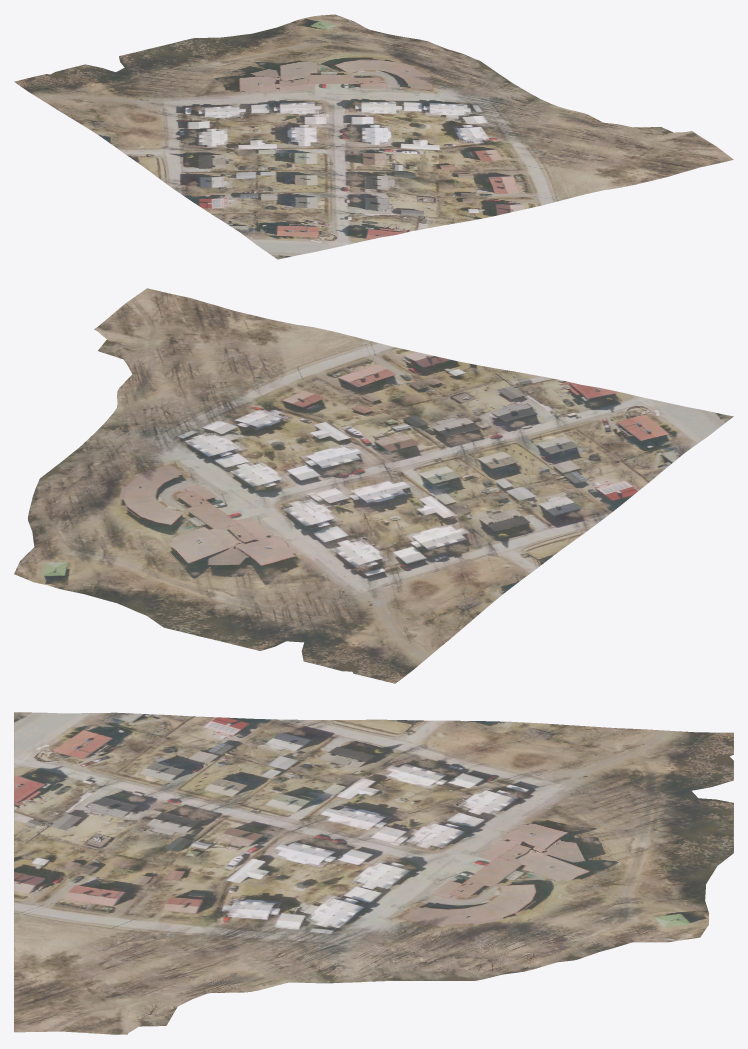
The model's file is CM_Terrain_24488820_6819794.fbx.
3 renders of one model, top to bottom at view 1: azimuth 30°, elevation 25°; view 2: azimuth 150°, elevation 25°; view 3: azimuth 270°, elevation 25°, orthographic. The views are drawn at different scales.
Visible parts, largest first — view 1: CM_Terrain_24488820_6819794_LOD0; view 2: CM_Terrain_24488820_6819794_LOD0; view 3: CM_Terrain_24488820_6819794_LOD0.
Boxes of the visible parts, x1=… form: CM_Terrain_24488820_6819794_LOD0: x1=14, y1=14, x2=733, y2=259; CM_Terrain_24488820_6819794_LOD0: x1=14, y1=288, x2=733, y2=683; CM_Terrain_24488820_6819794_LOD0: x1=14, y1=712, x2=733, y2=1034.
Size of what is drawn, in the model's own units: 205 by 6.64 by 205.
